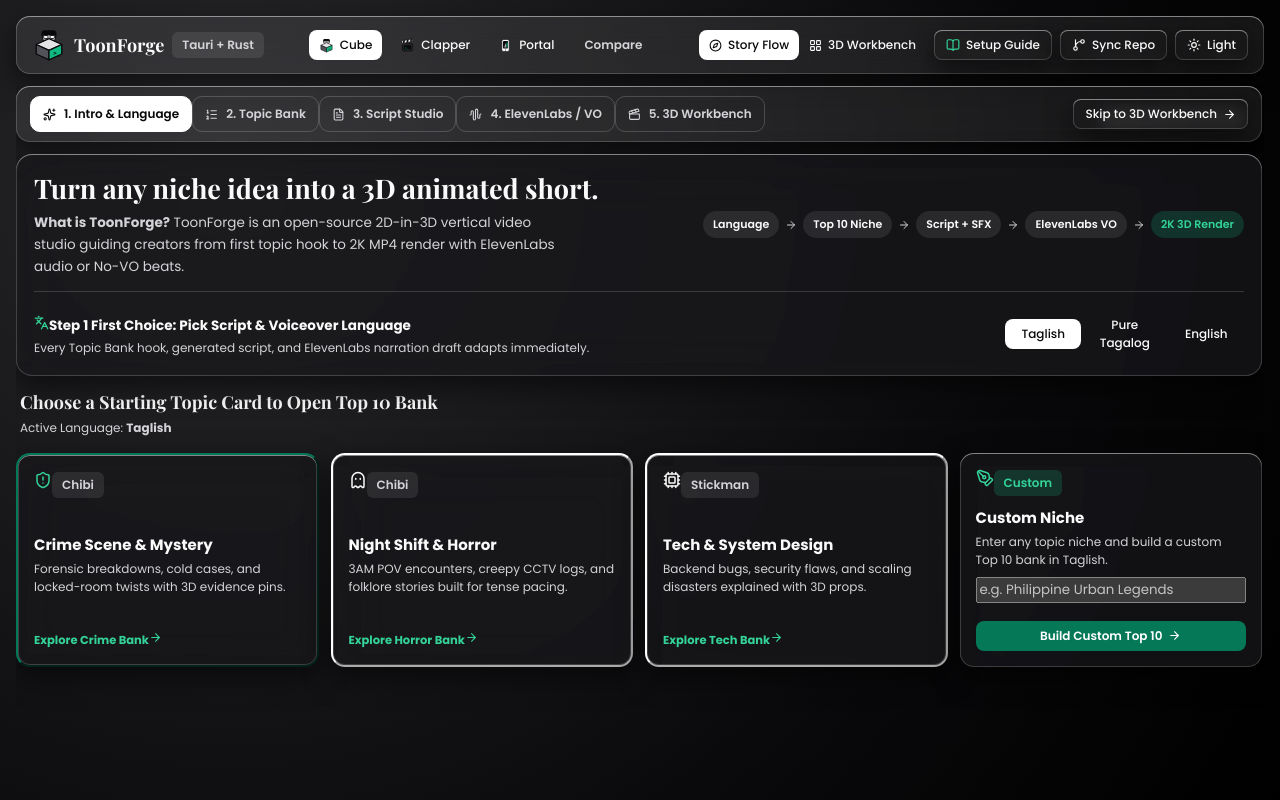
Test: ToonForge Full-Stack Modular Studio UI › toggles Light/Dark monochrome themes and renders real workspace card telemetry
Expected: the text "What is ToonForge?" is shown, [34,213,170,232]
Click the button "3D Workbench": (863, 45) [799,30,926,60]
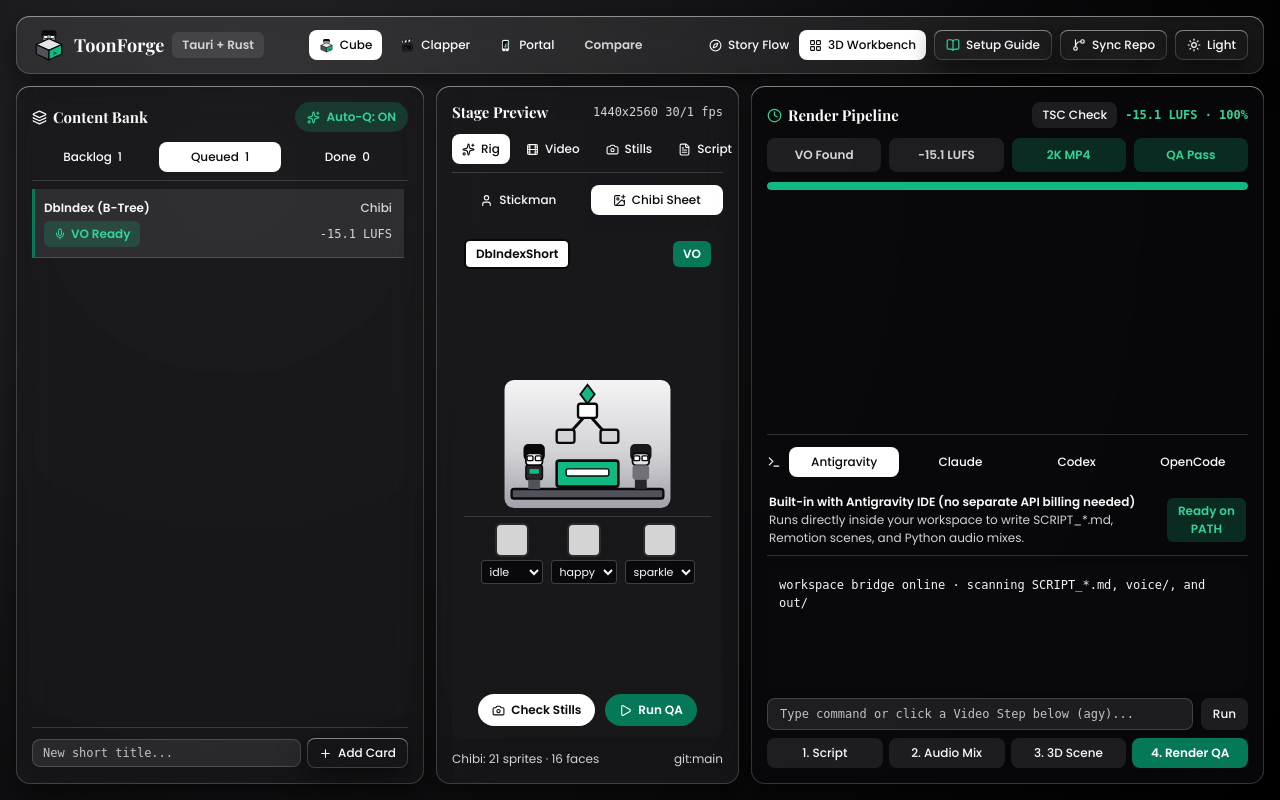
Expected: the button "DbIndex (B-Tree)" is shown, [44,199,150,217]
Expected: the text "-15.1 LUFS · 100%" is shown, [1125,108,1248,122]
Click the button "Light": (1212, 45) [1175,30,1248,60]
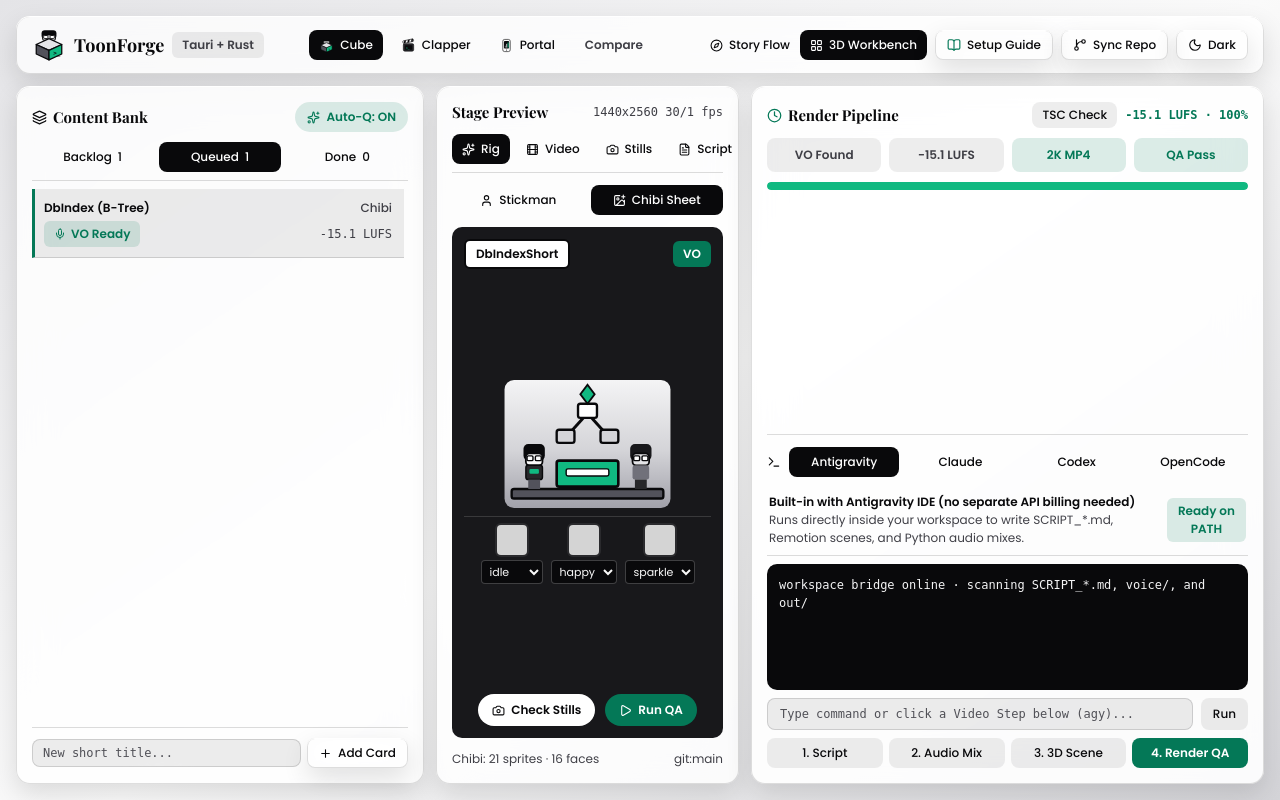
Expected: the element with id "studio-frame" has attribute data-mode="light"
